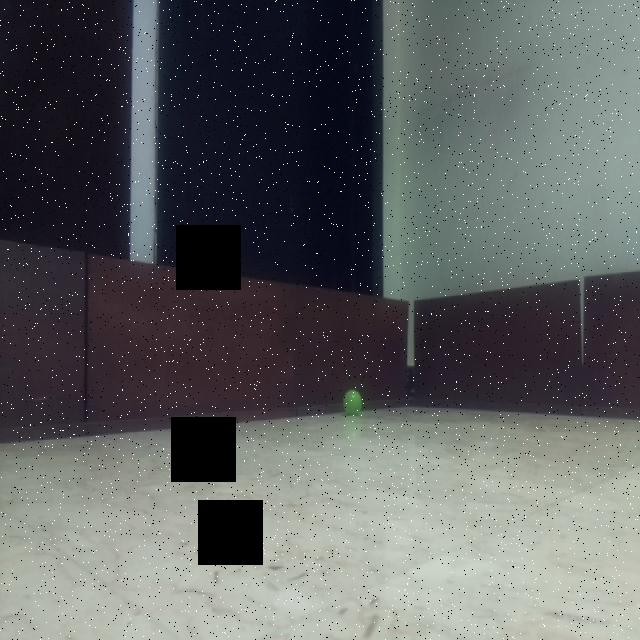ball: (340, 385, 366, 418)
